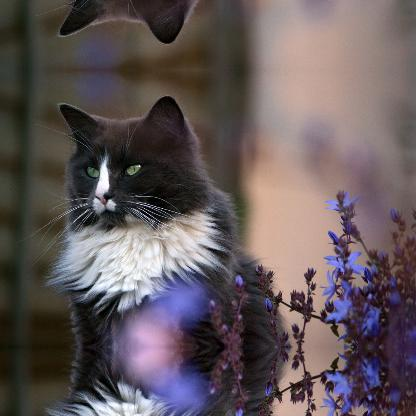Cat: (14, 94, 290, 346), (14, 346, 291, 415)
